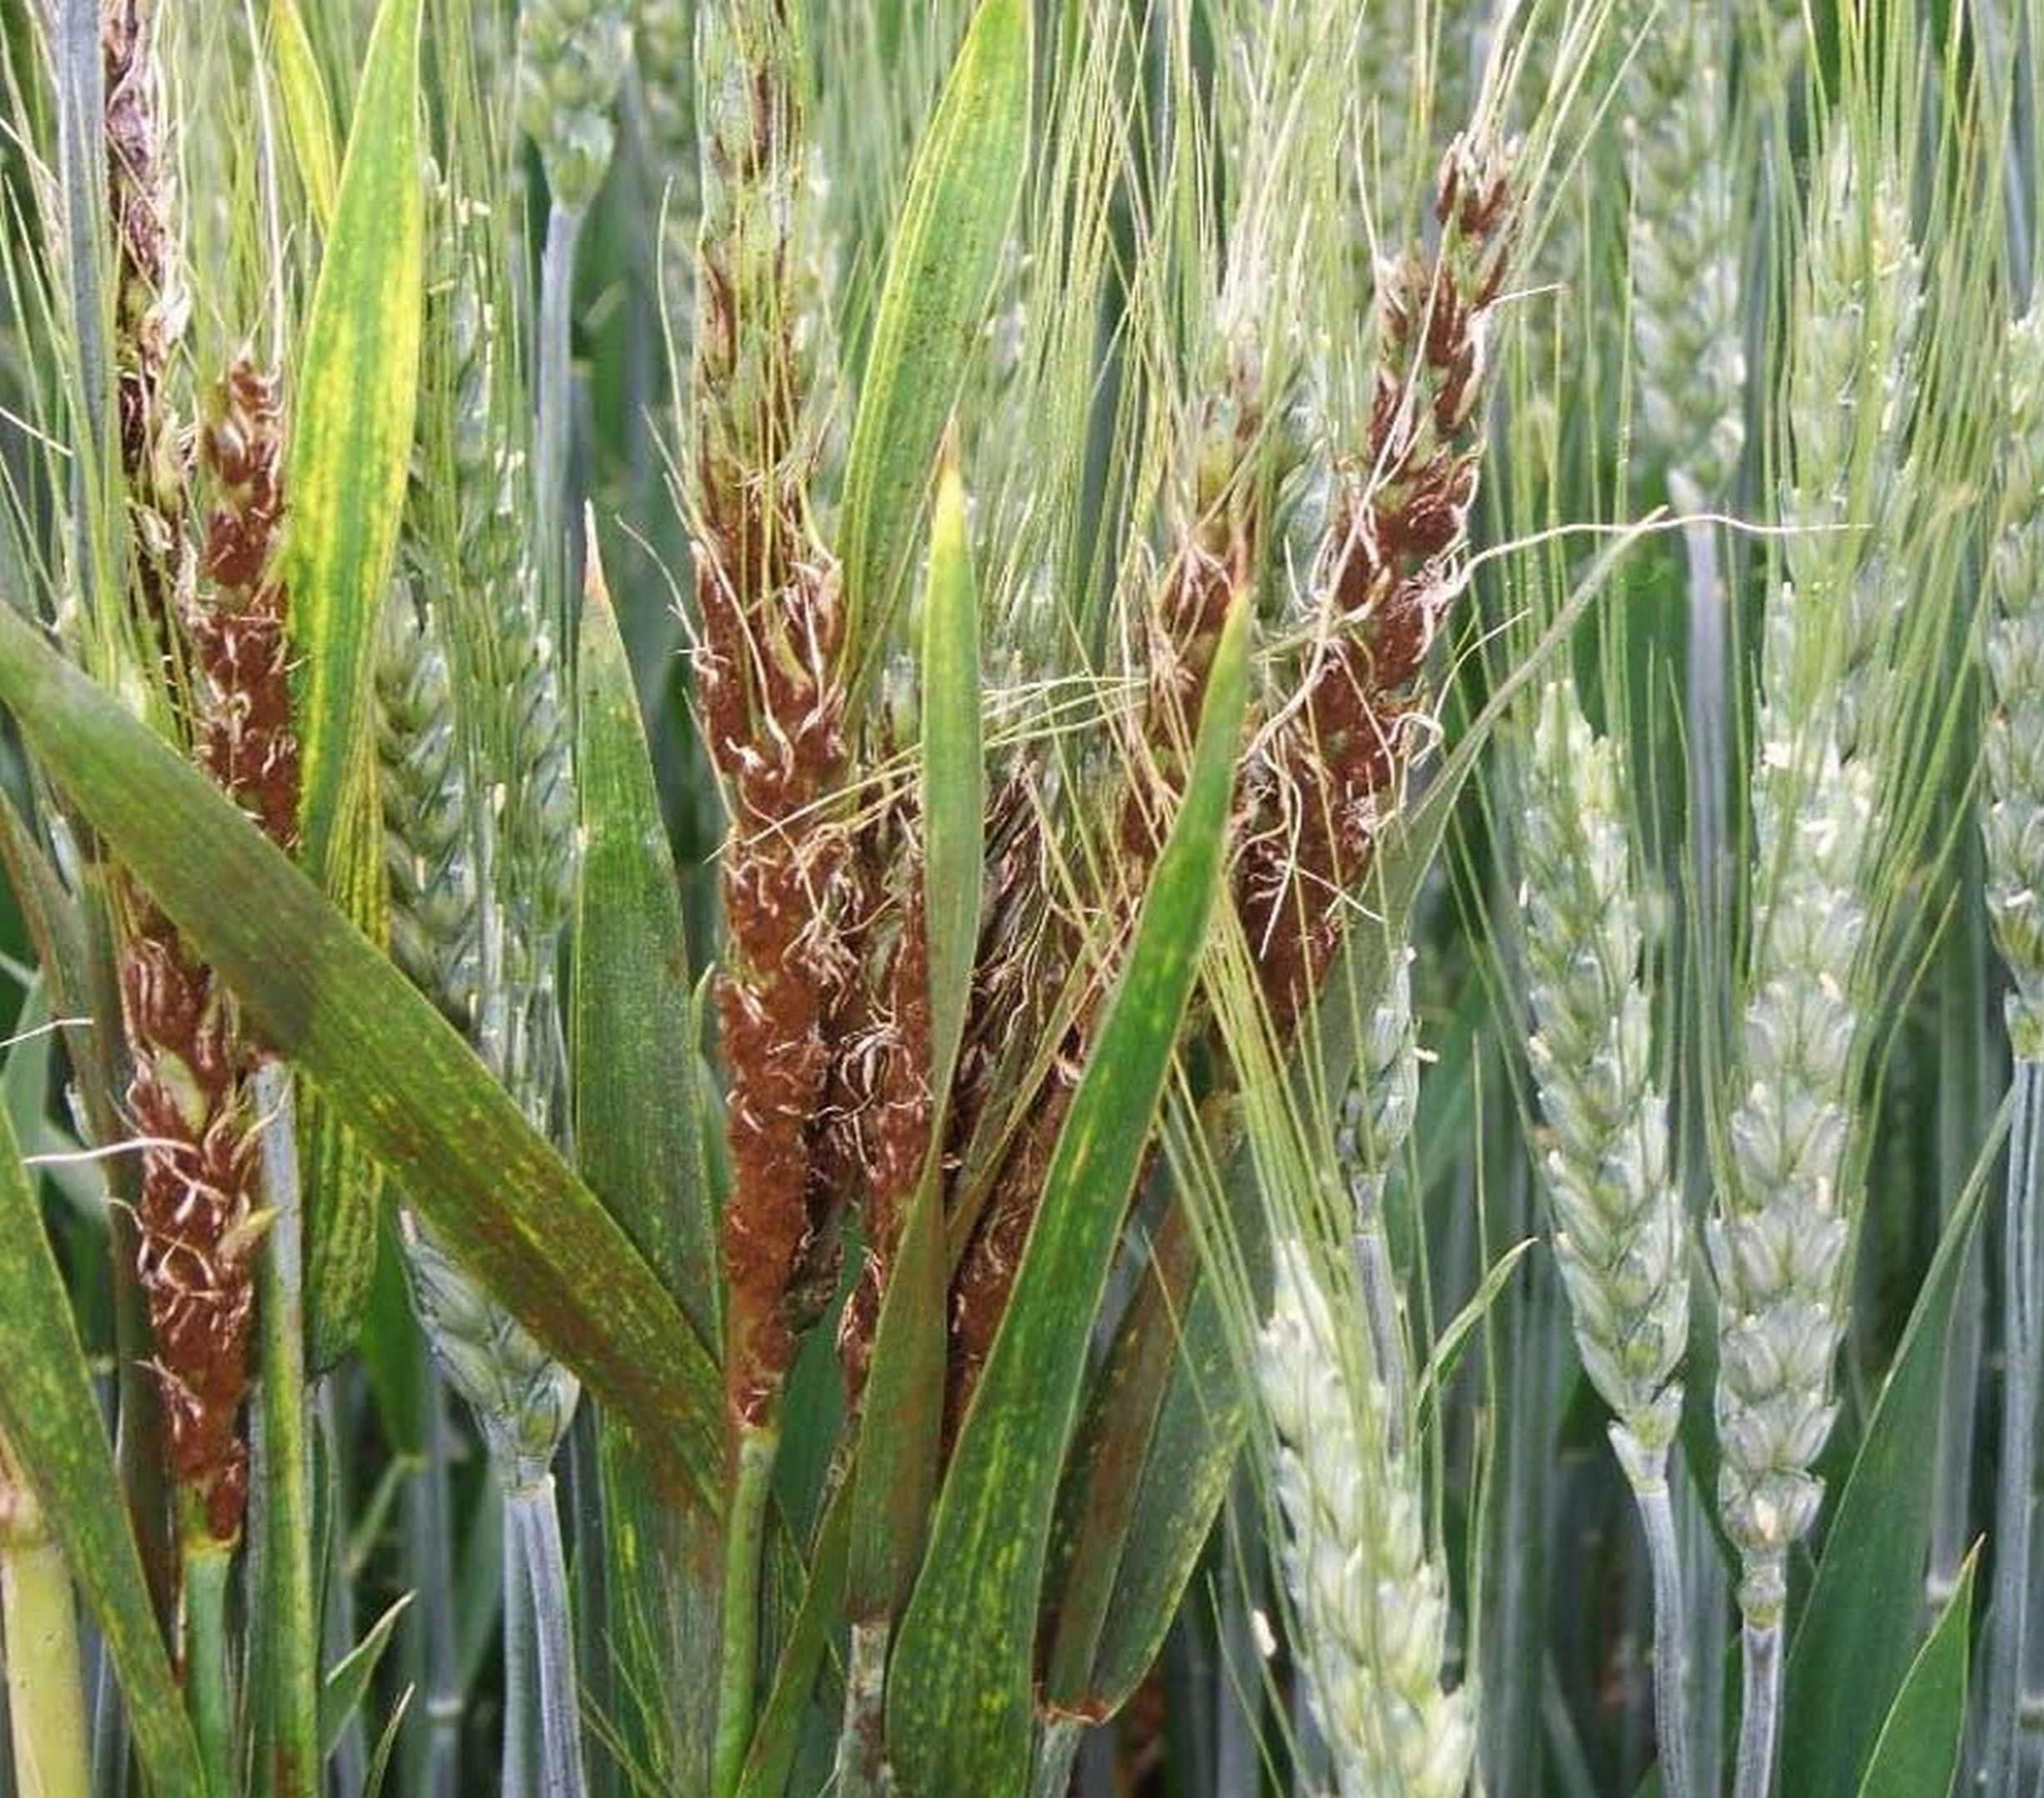Wheat Loose Smut: (1203, 256, 1538, 1000), (113, 374, 328, 1442), (681, 661, 864, 1396)
